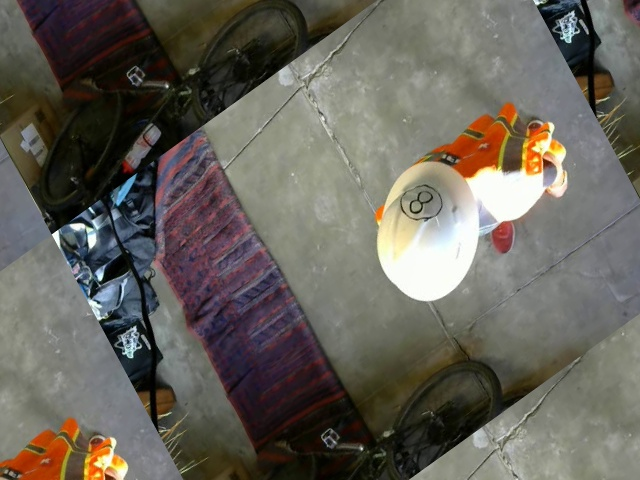eight: (396, 173, 447, 230)
